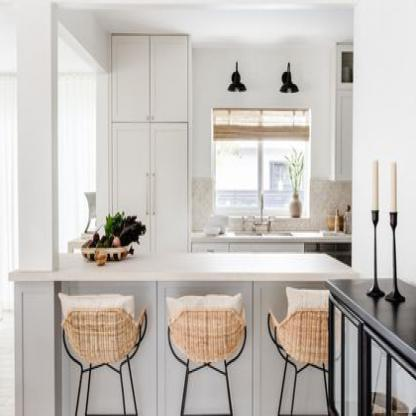chair: (54, 287, 150, 416), (162, 287, 249, 416), (258, 284, 329, 415)
